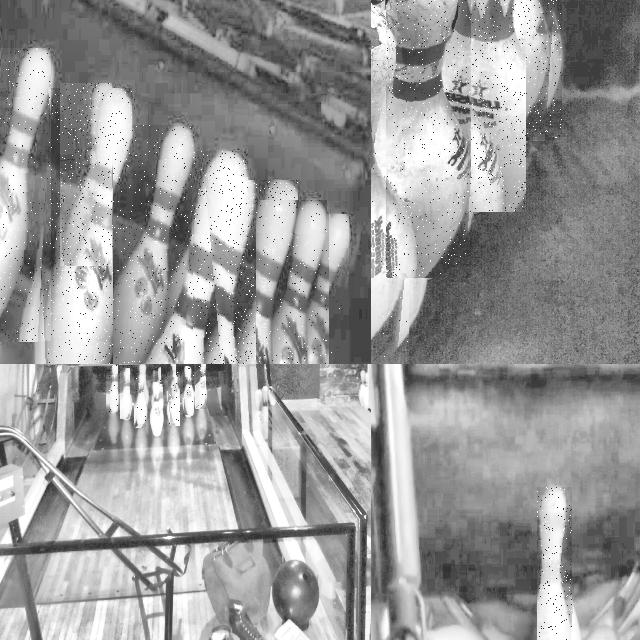bowling-pins: (43, 89, 132, 364), (386, 0, 470, 277), (145, 152, 247, 364), (113, 126, 193, 364), (457, 0, 526, 211), (0, 49, 51, 322), (371, 8, 408, 343), (230, 180, 297, 364), (60, 84, 112, 266), (271, 201, 327, 364), (293, 214, 349, 364), (502, 0, 552, 138), (537, 488, 572, 640), (149, 382, 163, 437), (169, 372, 180, 425), (183, 367, 194, 416), (136, 375, 145, 425), (122, 368, 130, 418), (109, 365, 117, 412), (198, 364, 206, 406), (169, 364, 176, 400), (142, 379, 149, 407), (139, 364, 145, 378), (157, 368, 160, 381), (162, 397, 162, 400)
